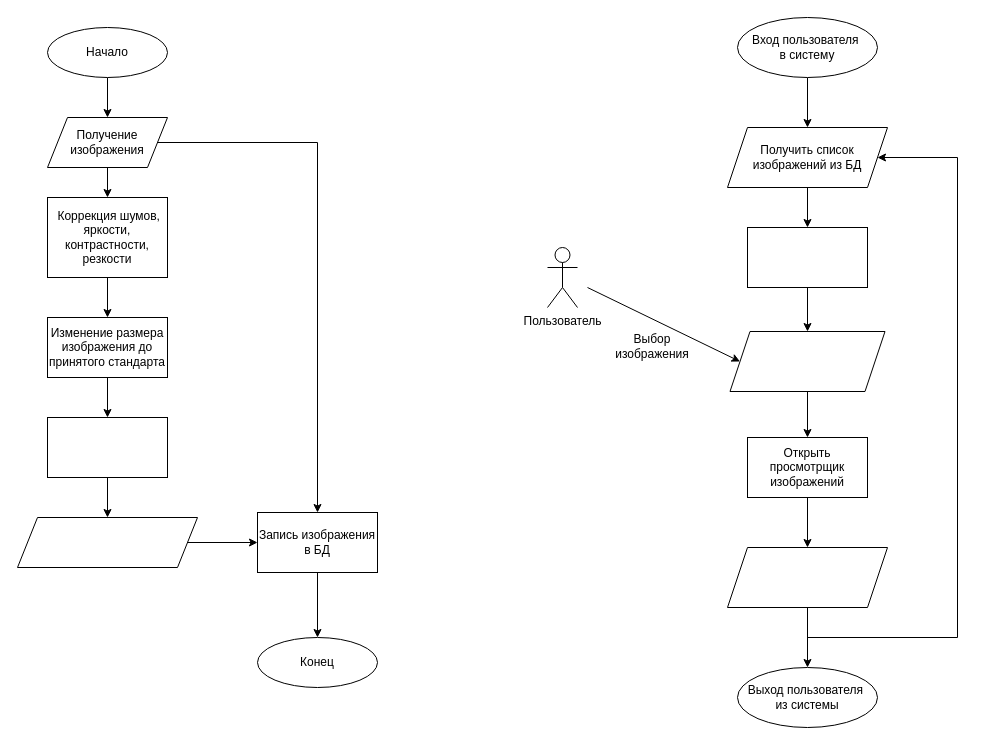
Image size: 983x745. Some labels were removed from this diagram. The shapes that lost their labels are listed below. From the top down, each one's centre as x and y in pixels, then its label:
At point 807,257: "Вывести список изображений для пользователя".
At point 807,361: "Получить изображение из БД по выбору пользователя".
At point 107,447: "Анализ изображения нейронной сетью".
At point 107,542: "Формирование проанализированного изображения".
At point 807,577: "Пользователь выходит из просмотрщика".
